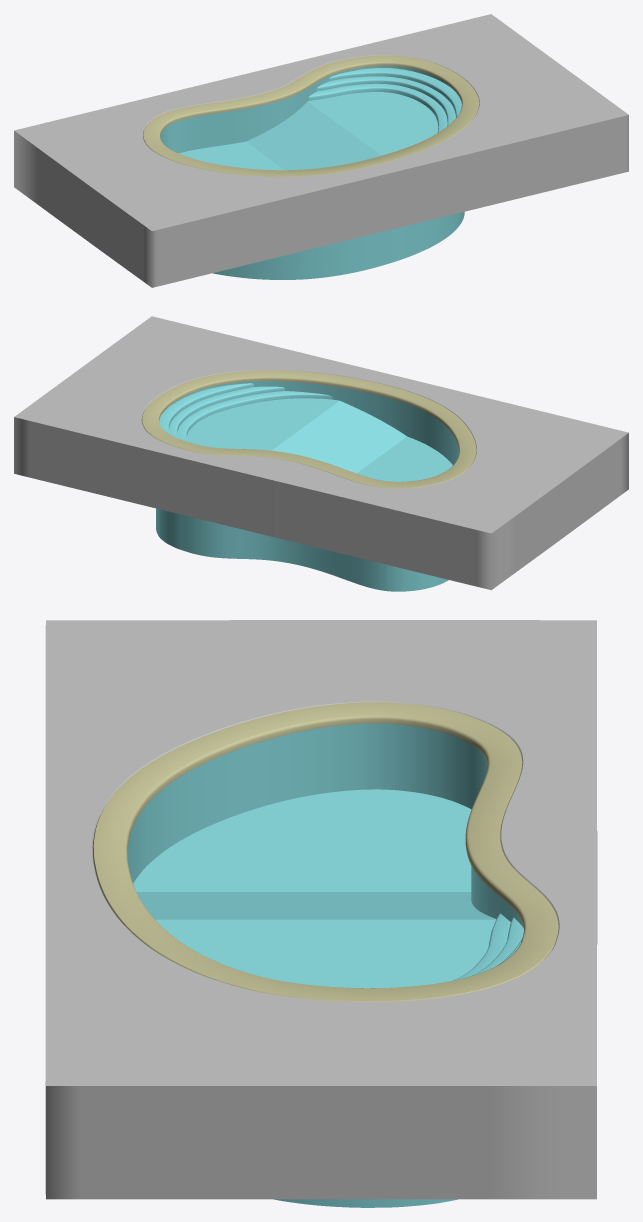
File: pool_02.glb
The picture shows the model from 3 angles, top to bottom: view 1: azimuth 30°, elevation 25°; view 2: azimuth 150°, elevation 25°; view 3: azimuth 270°, elevation 25°; orthographic projection. The views are drawn at different scales.
Parts seen in each view (by area): view 1: pool; view 2: pool; view 3: pool.
Part boxes in pixels (x1=…): pool: x1=14, y1=14, x2=628, y2=287; pool: x1=14, y1=316, x2=628, y2=591; pool: x1=45, y1=620, x2=597, y2=1207.
Size of what is drawn, in the model's own units: 32.01 by 7.02 by 16.01.
